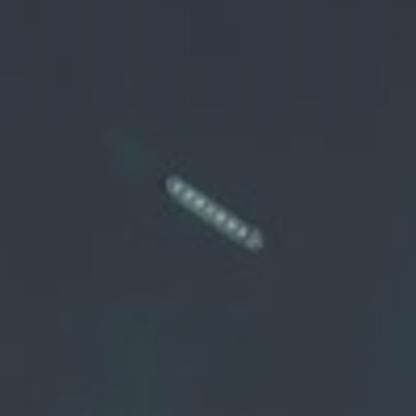ship: (154, 168, 272, 258)
